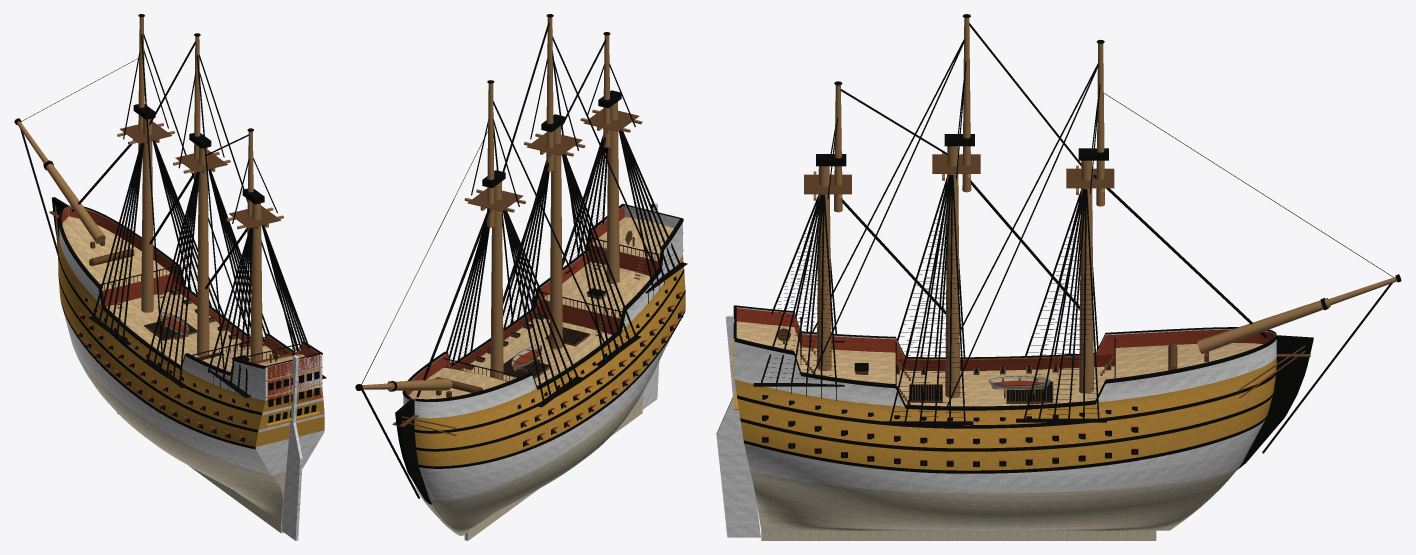
Rendered from second_rate.glb.
The picture shows the model from 3 angles, left to right: view 1: azimuth 30°, elevation 25°; view 2: azimuth 150°, elevation 25°; view 3: azimuth 270°, elevation 25°; orthographic projection. The views are drawn at different scales.
Visible parts, largest first — view 1: hull; view 2: hull; view 3: hull.
Boxes of the visible parts, x1=… form: hull: x1=14, y1=14, x2=326, y2=540; hull: x1=355, y1=14, x2=687, y2=540; hull: x1=716, y1=14, x2=1401, y2=540.
Bounding box in the file's own units: 16.03 × 58.34 × 69.08.
Materials: 9 (5 with a texture image).
